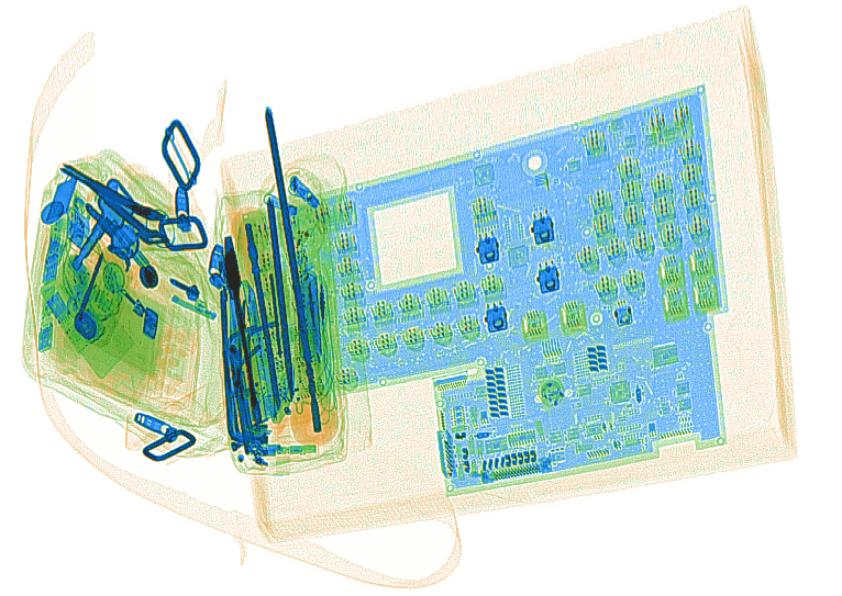USBFlashDisk: (40, 280, 93, 353), (66, 188, 93, 249), (41, 216, 66, 281), (35, 287, 55, 353)
knife: (239, 278, 280, 424)
